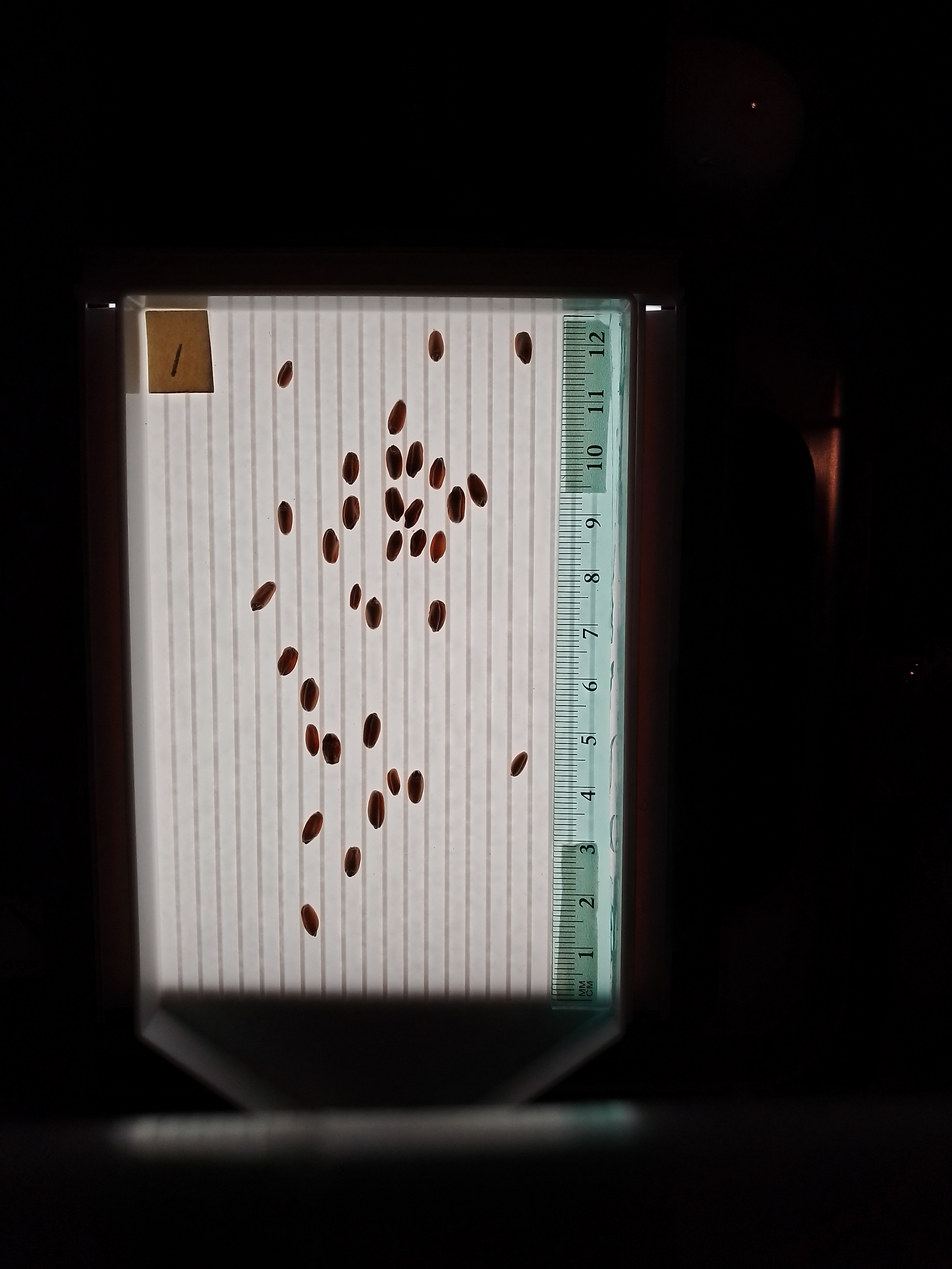seed mask: (251, 582, 275, 611), (447, 487, 466, 523), (468, 474, 488, 507), (302, 813, 323, 843), (388, 401, 406, 435), (363, 714, 381, 748), (368, 792, 385, 828), (514, 332, 533, 364), (386, 488, 404, 521), (301, 679, 319, 712), (323, 530, 340, 564), (406, 442, 423, 476), (301, 904, 319, 936), (322, 734, 341, 764), (343, 496, 360, 529), (277, 647, 297, 675), (365, 598, 382, 629), (429, 601, 446, 632), (277, 502, 293, 534), (405, 499, 423, 527), (408, 772, 424, 803), (343, 453, 359, 483), (428, 331, 444, 361), (344, 847, 360, 877), (431, 532, 446, 563), (430, 458, 445, 489), (387, 446, 402, 477), (277, 361, 294, 388), (510, 752, 528, 777), (387, 532, 402, 561), (410, 530, 426, 556), (305, 725, 319, 754), (387, 769, 401, 795), (350, 585, 361, 609)
